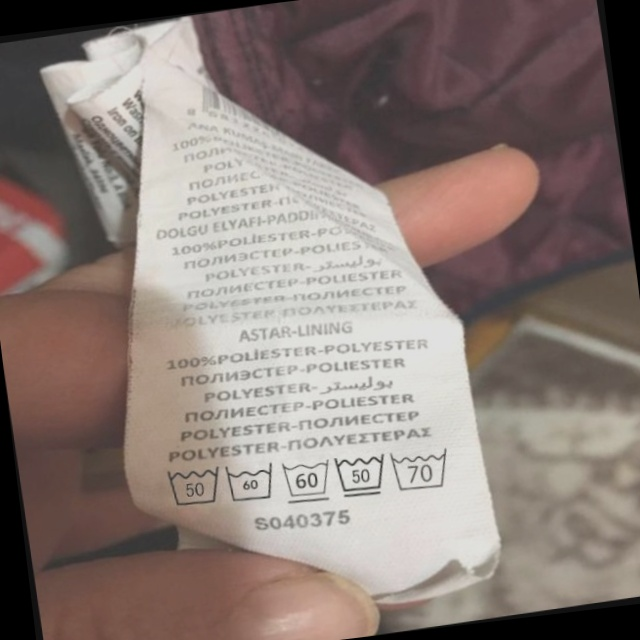50C: (159, 456, 228, 514), (330, 447, 393, 504)
60C: (279, 452, 338, 507), (222, 456, 282, 509)
70C: (389, 442, 459, 496)
